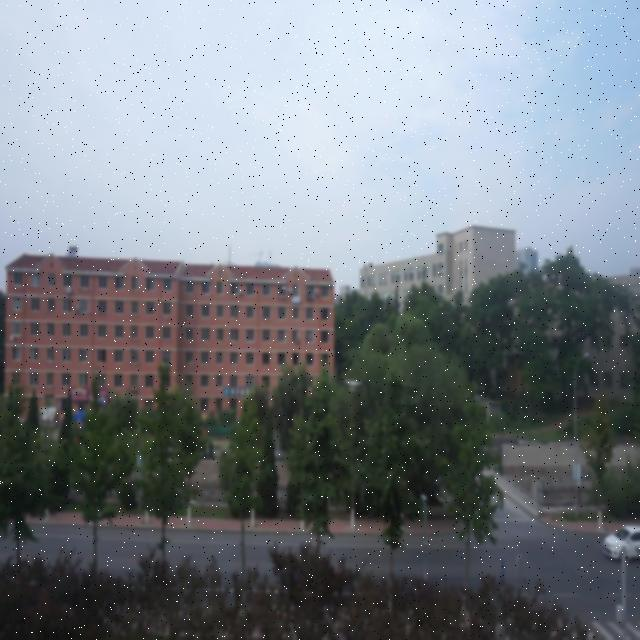UAV: (345, 381, 362, 391)
